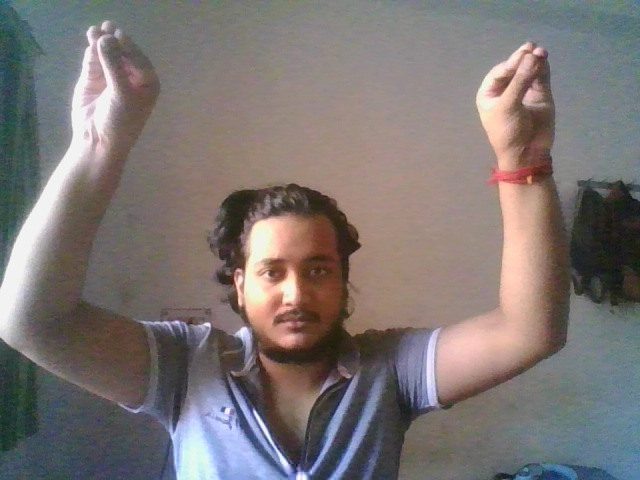Mouth: (71, 21, 164, 146), (473, 41, 556, 154)
